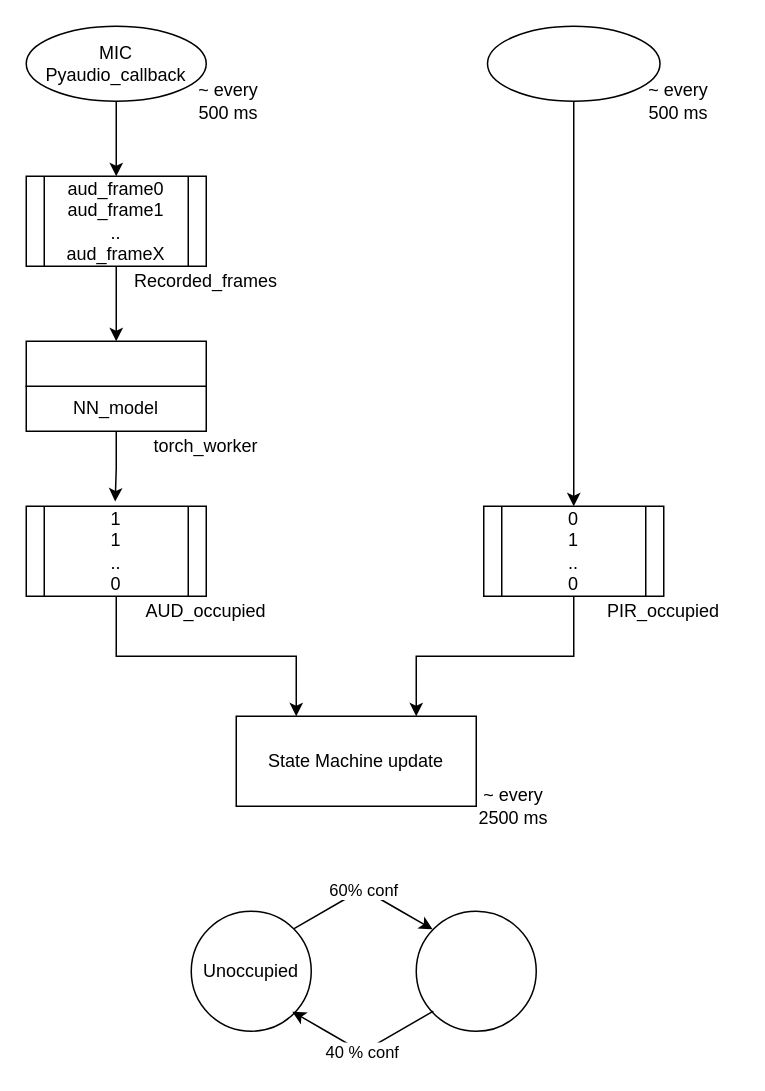
Image size: 765x1091. Some labels were removed from this diagram. The shapes that lost their labels are listed below. From the top down, each one's centre as x and y in pixels, then its label:
At pixel 573 63: "PIR_reading".
At pixel 115 363: "MFCC".
At pixel 475 970: "Occupied".
